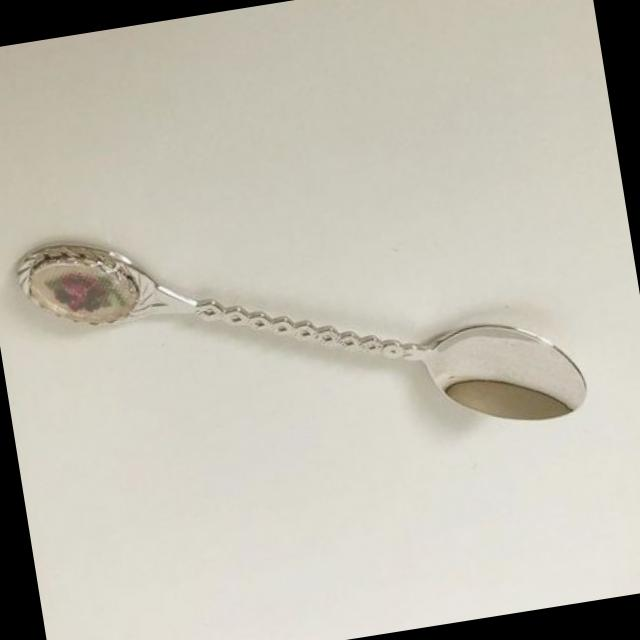spoon: (0, 147, 595, 506)
